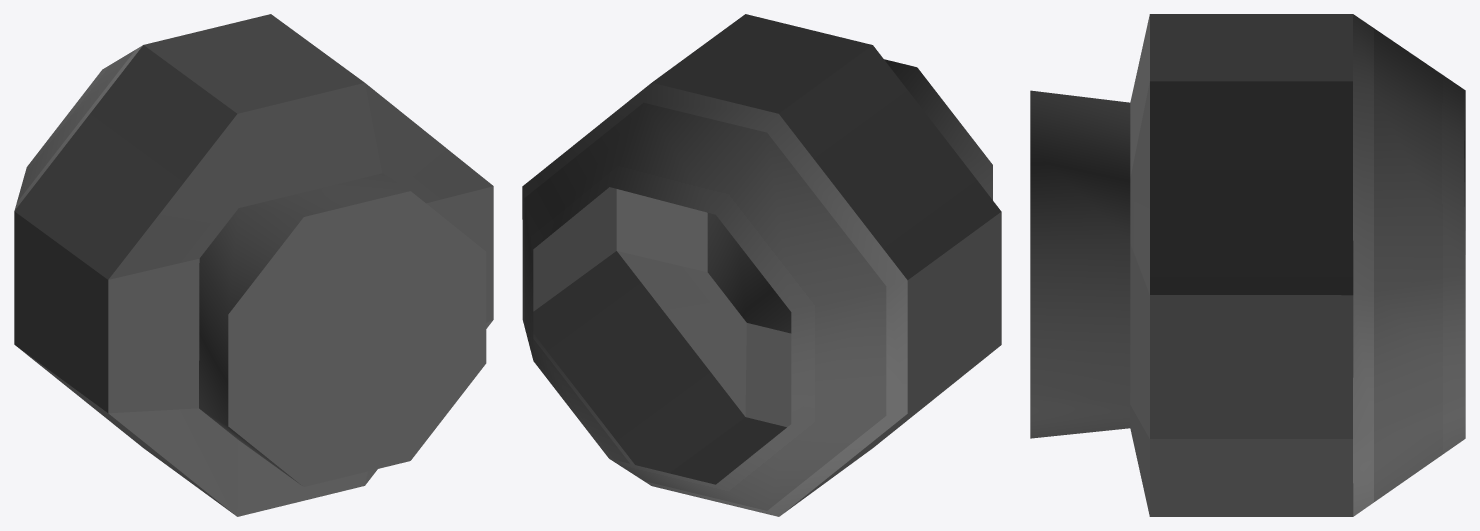
Rendered from stat_conector0.glb.
The picture shows the model from 3 angles, left to right: view 1: azimuth 30°, elevation 25°; view 2: azimuth 150°, elevation 25°; view 3: azimuth 270°, elevation 25°; orthographic projection. The views are drawn at different scales.
Parts seen in each view (by area): view 1: group_19; view 2: group_19; view 3: group_19.
Boxes of the visible parts, box(x1,y1,x2,y2) form: group_19: box(14, 14, 493, 516); group_19: box(522, 14, 1001, 516); group_19: box(1030, 14, 1465, 516).
Size of the model in its own units: 11306 by 11305 by 10239.
Materials: 2 (2 with a texture image).
